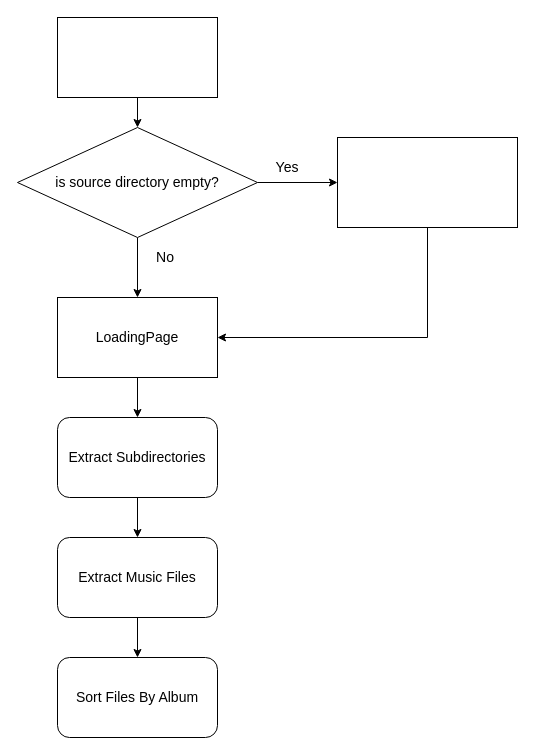
The diagram is 535 pixels wide and 755 high, and some of its shapes have lost their labels. The box of each missing label's shape, as (x1, y1, x2, y2) in pixels:
SelectMusicSourcePage: (336, 136, 518, 228)
TitlePage: (56, 16, 218, 98)
